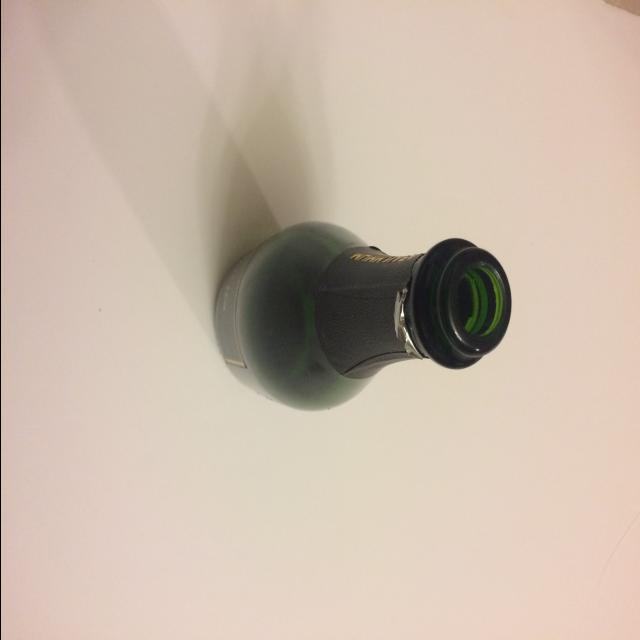glass: (208, 218, 514, 416)
